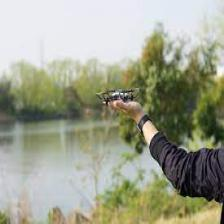drone: (97, 88, 138, 102)
